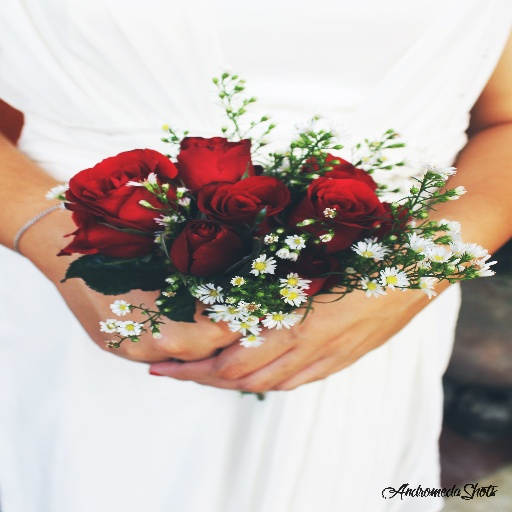hand: (149, 268, 415, 392), (30, 228, 246, 363)
